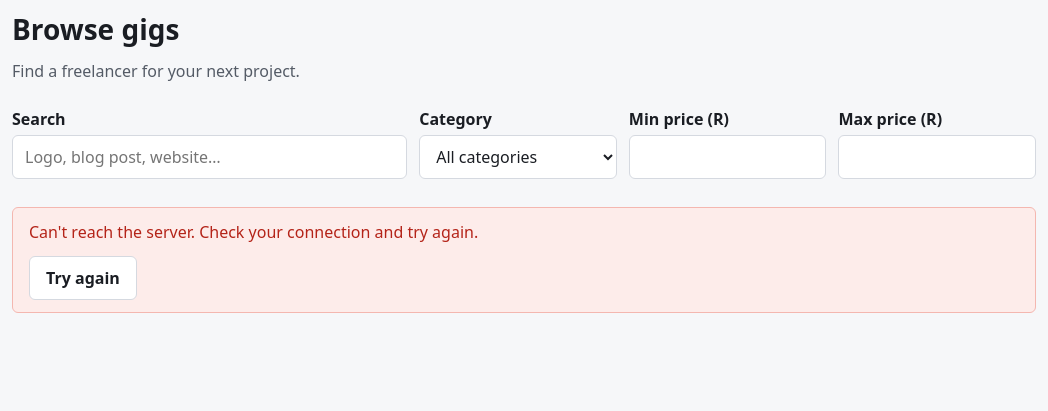
Test: Gigs page › shows an error with a working retry button
Expected: the message shows "Can't reach the server", [29,221,478,243]
Click the button "Try again".
click(83, 278)  # box [29,256,137,300]
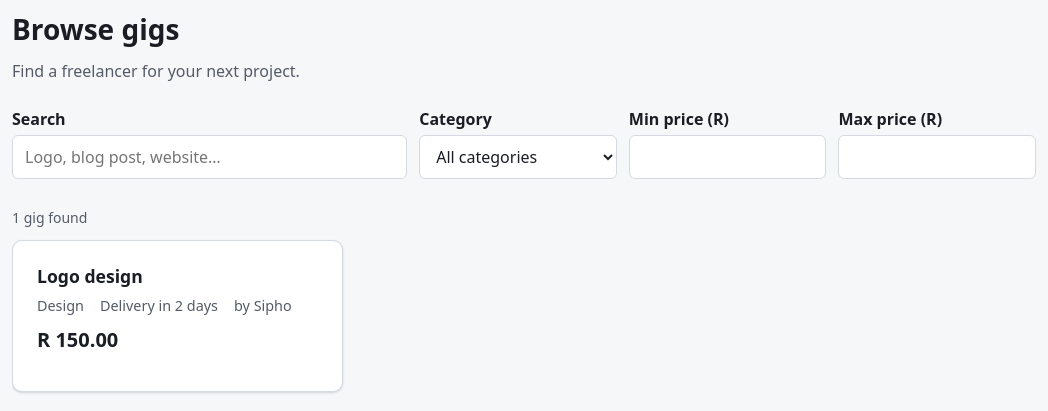
Now the link "Logo design" is shown, box [37,264,143,288]
